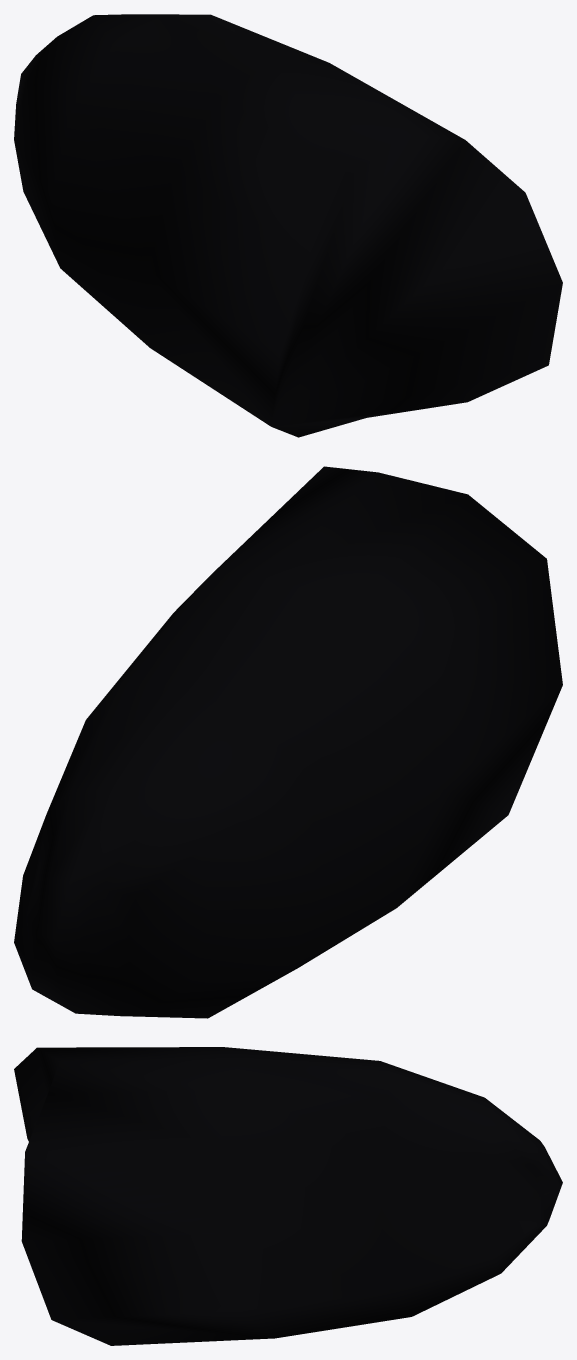
The model's file is brazo1ZIM.obj.
3 renders of one model, top to bottom at view 1: azimuth 30°, elevation 25°; view 2: azimuth 150°, elevation 25°; view 3: azimuth 270°, elevation 25°, orthographic. The views are drawn at different scales.
Parts seen in each view (by area): view 1: BRAZO_2; view 2: BRAZO_2; view 3: BRAZO_2.
Part boxes in pixels (x1,y1,x2,y2): BRAZO_2: (14, 14, 562, 437); BRAZO_2: (14, 466, 562, 1018); BRAZO_2: (14, 1047, 562, 1345).
Bounding box in the file's own units: 0.0499 × 0.0532 × 0.102.
